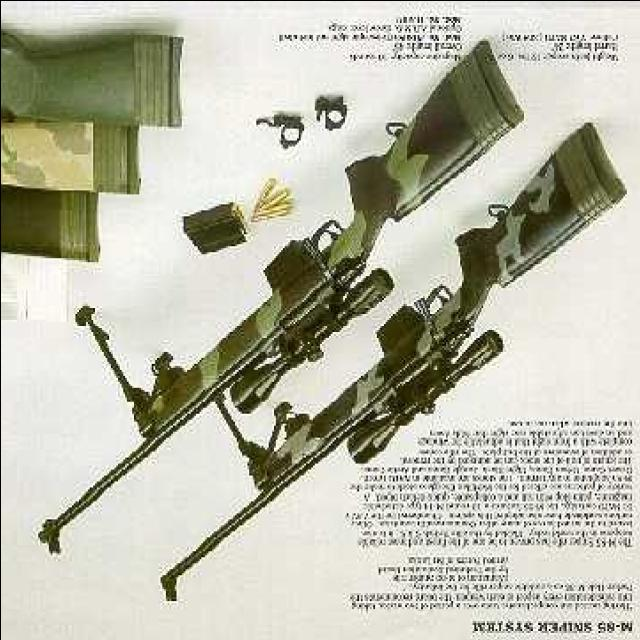heavyweapon: (26, 45, 505, 563), (163, 117, 640, 631)
